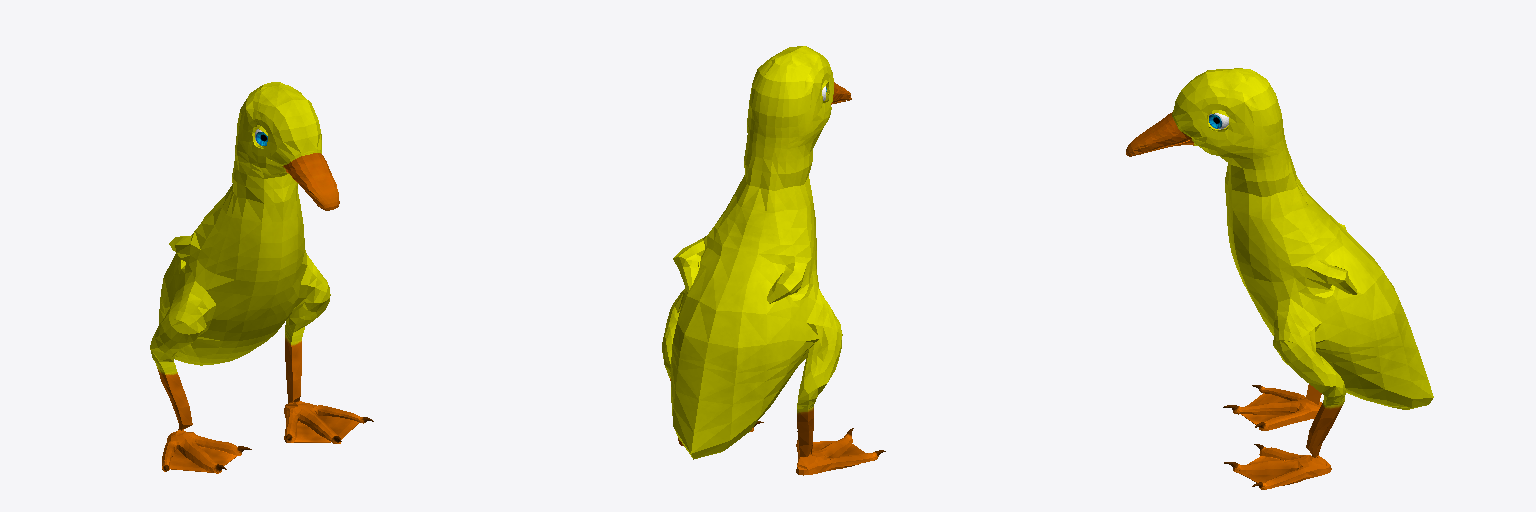
The picture shows the model from 3 angles: view 1: azimuth 30°, elevation 25°; view 2: azimuth 150°, elevation 25°; view 3: azimuth 270°, elevation 25°; orthographic projection.
Parts seen in each view (by area): view 1: Body_Mesh_Plane; view 2: Body_Mesh_Plane; view 3: Body_Mesh_Plane.
Boxes of the visible parts, box(x1,y1,x2,y2) form: Body_Mesh_Plane: box(150, 82, 373, 473); Body_Mesh_Plane: box(662, 46, 885, 475); Body_Mesh_Plane: box(1126, 68, 1433, 489).
Bounding box in the file's own units: 1.15 × 1.97 × 1.47.
Materials: 1 (1 with a texture image).